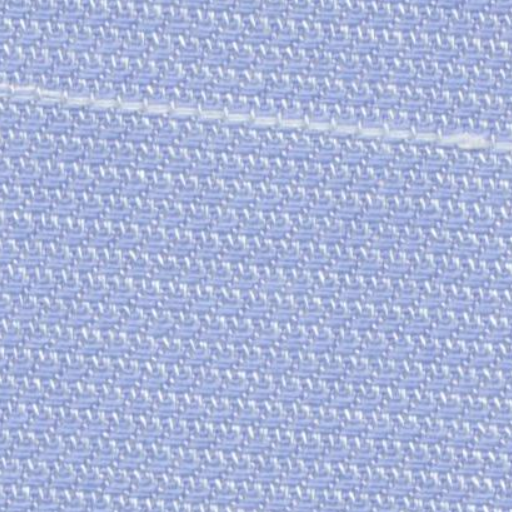TuoSha: (16, 71, 492, 174)
